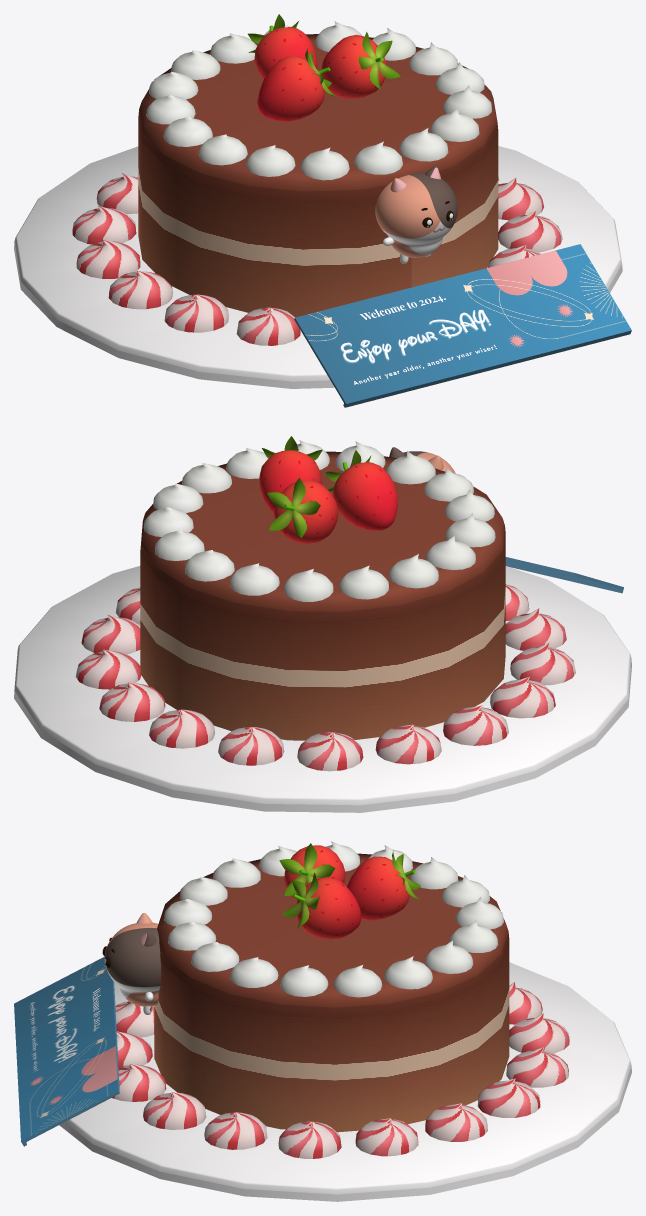
File: cat_cake_1.glb
3 renders of one model, top to bottom at view 1: azimuth 30°, elevation 25°; view 2: azimuth 150°, elevation 25°; view 3: azimuth 270°, elevation 25°, orthographic. The views are drawn at different scales.
Visible parts, largest first — view 1: Cake, Mesh_0, Object_27, Sphere005, Sphere010, Sphere029, Sphere028, Sphere030, Sphere027, Sphere018, Sphere026, Sphere032 (+19 smaller); view 2: Cake, Sphere005, Sphere032, Sphere027, Sphere026, Sphere025, Sphere028, Sphere023, Sphere024, Sphere022, Sphere010, Sphere029 (+22 smaller); view 3: Cake, Mesh_0, Object_27, Sphere032, Sphere010, Sphere020, Sphere021, Sphere022, Sphere018, Sphere019, Sphere017, Sphere023 (+22 smaller).
Boxes of the visible parts, left/top/right/bottom form: Cake: left=14, top=34, right=622, bottom=388; Mesh_0: left=294, top=244, right=631, bottom=407; Object_27: left=375, top=172, right=457, bottom=263; Sphere005: left=257, top=56, right=330, bottom=121; Sphere010: left=321, top=34, right=385, bottom=98; Sphere029: left=164, top=294, right=228, bottom=332; Sphere028: left=108, top=271, right=172, bottom=309; Sphere030: left=236, top=307, right=300, bottom=345; Sphere027: left=76, top=240, right=140, bottom=278; Sphere018: left=498, top=211, right=562, bottom=252; Sphere026: left=72, top=206, right=136, bottom=244; Sphere032: left=254, top=25, right=317, bottom=79; Cake: left=14, top=451, right=631, bottom=812; Sphere005: left=332, top=462, right=397, bottom=530; Sphere032: left=274, top=480, right=338, bottom=543; Sphere027: left=443, top=705, right=508, bottom=745; Sphere026: left=375, top=724, right=441, bottom=764; Sphere025: left=297, top=732, right=363, bottom=771; Sphere028: left=490, top=676, right=555, bottom=718; Sphere023: left=149, top=709, right=214, bottom=748; Sphere024: left=218, top=727, right=284, bottom=765; Sphere022: left=99, top=682, right=165, bottom=721; Sphere010: left=259, top=448, right=321, bottom=513; Sphere029: left=510, top=643, right=575, bottom=685; Cake: left=59, top=853, right=631, bottom=1201; Mesh_0: left=14, top=956, right=119, bottom=1146; Object_27: left=104, top=922, right=161, bottom=1014; Sphere032: left=347, top=856, right=415, bottom=920; Sphere010: left=293, top=877, right=361, bottom=938; Sphere020: left=355, top=1118, right=418, bottom=1156; Sphere021: left=425, top=1103, right=487, bottom=1141; Sphere022: left=477, top=1078, right=540, bottom=1117; Sphere018: left=204, top=1112, right=267, bottom=1149; Sphere019: left=278, top=1121, right=341, bottom=1158; Sphere017: left=143, top=1092, right=206, bottom=1129; Sphere023: left=506, top=1047, right=568, bottom=1087.
Size of the model in its own units: 0.786 by 0.3202 by 0.8094.
12 materials, 11 textured.
